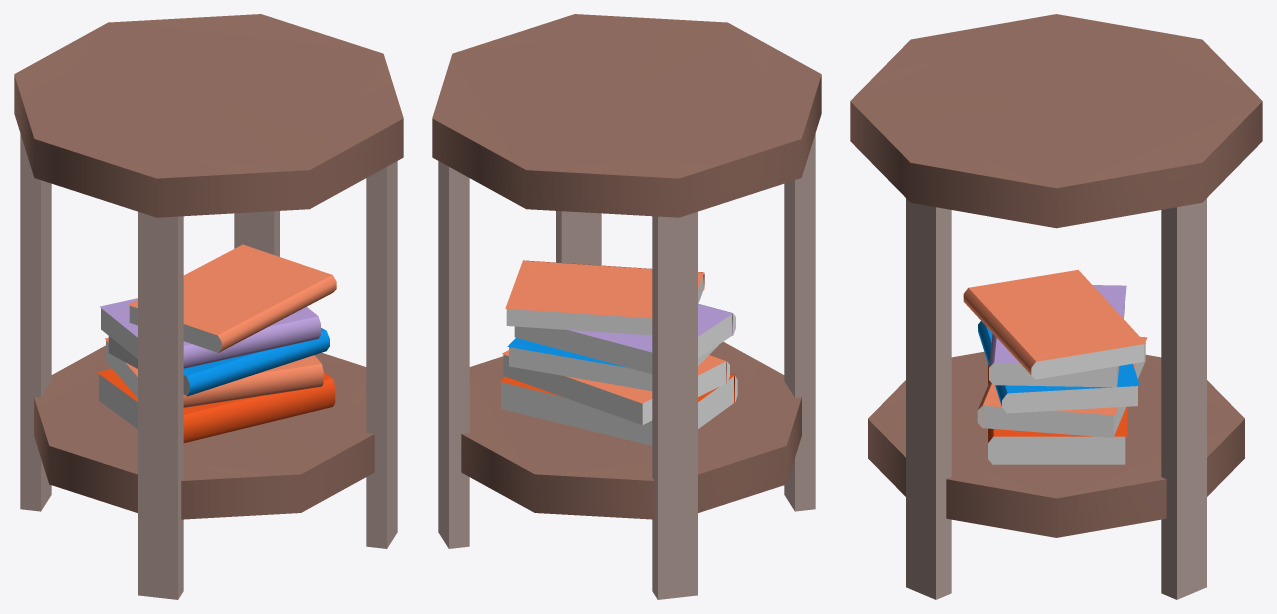
The model's file is coffee_table_009.glb.
3 renders of one model, left to right at view 1: azimuth 30°, elevation 25°; view 2: azimuth 150°, elevation 25°; view 3: azimuth 270°, elevation 25°, orthographic. The views are drawn at different scales.
Parts seen in each view (by area): view 1: coffee_table_009; view 2: coffee_table_009; view 3: coffee_table_009.
Part boxes in pixels (bbox=[...]): coffee_table_009: bbox=[14, 14, 403, 599]; coffee_table_009: bbox=[432, 14, 821, 599]; coffee_table_009: bbox=[850, 14, 1262, 599].
Size of the model in its own units: 0.4861 by 0.5643 by 0.4861.
1 material, 1 textured.
